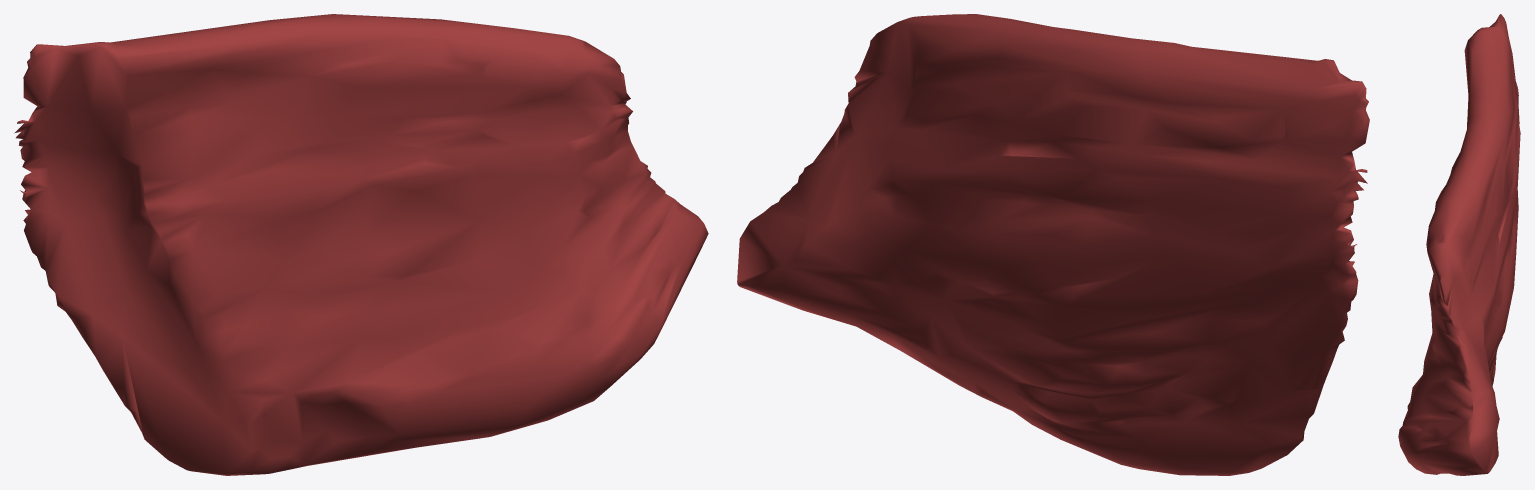
Rendered from quadratus-femoris-muscle-r.glb.
3 renders of one model, left to right at view 1: azimuth 30°, elevation 25°; view 2: azimuth 150°, elevation 25°; view 3: azimuth 270°, elevation 25°, orthographic. The views are drawn at different scales.
Visible parts, largest first — view 1: Quadratus femoris muscle.r; view 2: Quadratus femoris muscle.r; view 3: Quadratus femoris muscle.r.
Part boxes in pixels (<box>): Quadratus femoris muscle.r: <box>14,14,708,475</box>; Quadratus femoris muscle.r: <box>737,14,1369,475</box>; Quadratus femoris muscle.r: <box>1398,14,1520,475</box>.
Size of the model in its own units: 0.0685 by 0.0457 by 0.0161.
